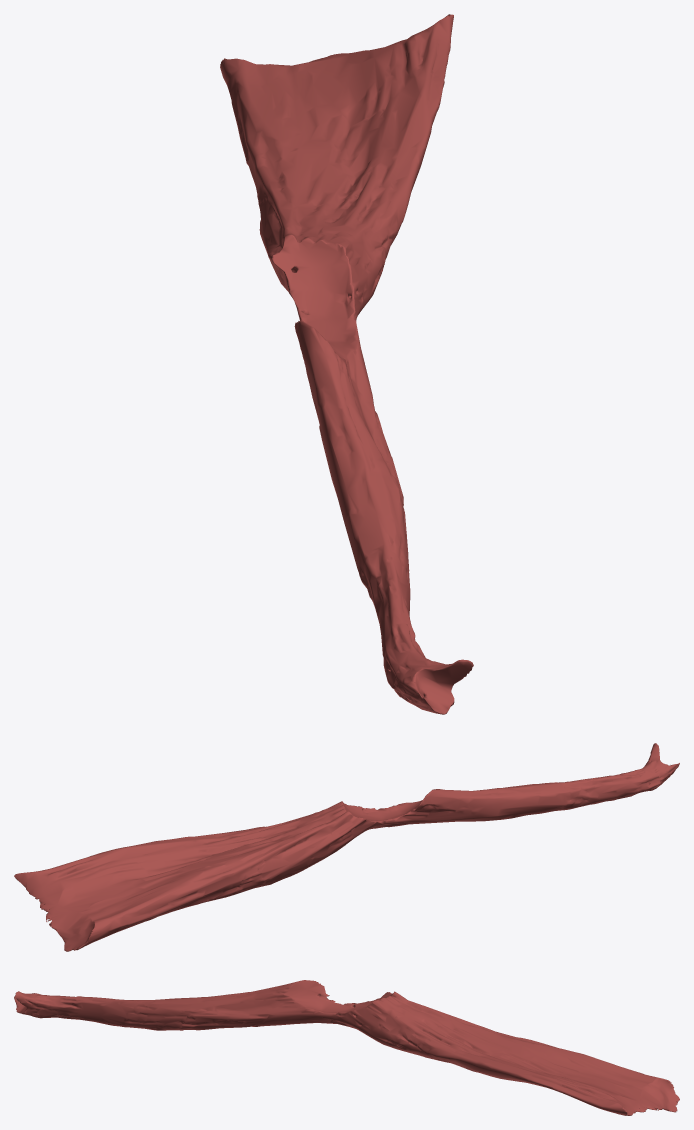
Rendered from FMA37463.glb.
3 views of the same model, one above another, from view 1: azimuth 30°, elevation 25°; view 2: azimuth 150°, elevation 25°; view 3: azimuth 270°, elevation 25° (orthographic). The views are drawn at different scales.
Parts seen in each view (by area): view 1: FMA37463; view 2: FMA37463; view 3: FMA37463.
Part boxes in pixels (left/top/right/bottom): FMA37463: left=220, top=14, right=473, bottom=714; FMA37463: left=14, top=743, right=679, bottom=951; FMA37463: left=14, top=980, right=679, bottom=1115.
Size of the model in its own units: 0.0687 by 0.0161 by 0.1235.
